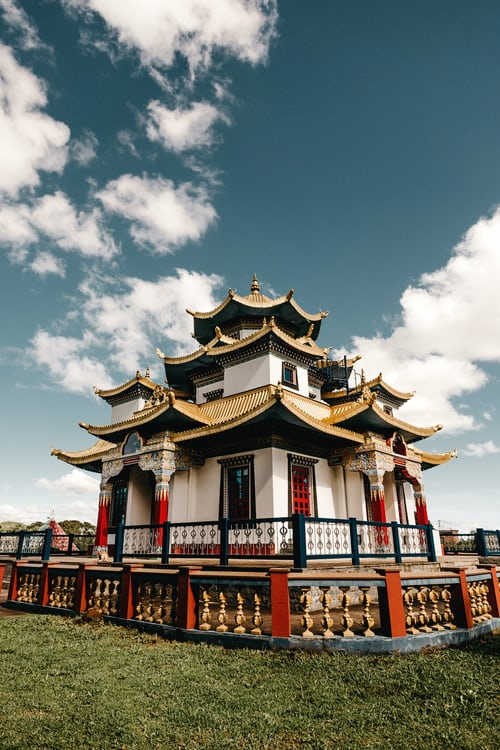Temple: (66, 273, 458, 577)
